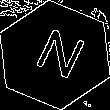N_SW: (24, 24, 86, 86)
